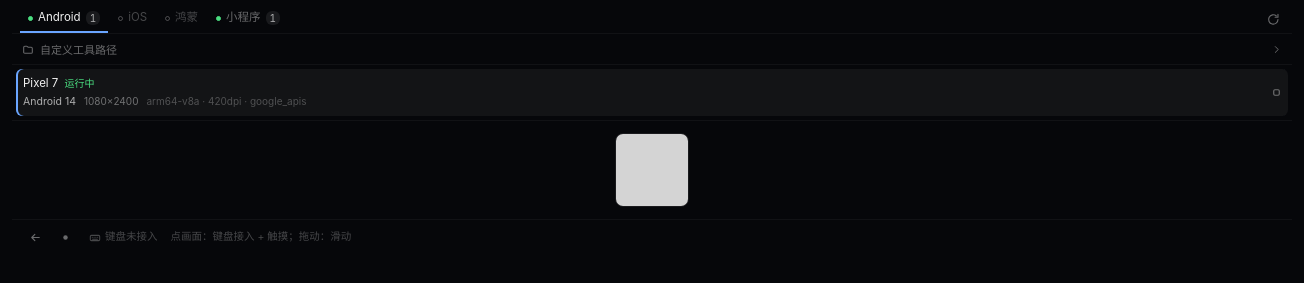
Test: 小程序（元素级输入） › 元素模式：画面是只读的（不接管指针），并列出元素
Click the tab with class "sim-tab" showing "小程序 1" at (248, 20), box [208,6,288,33]
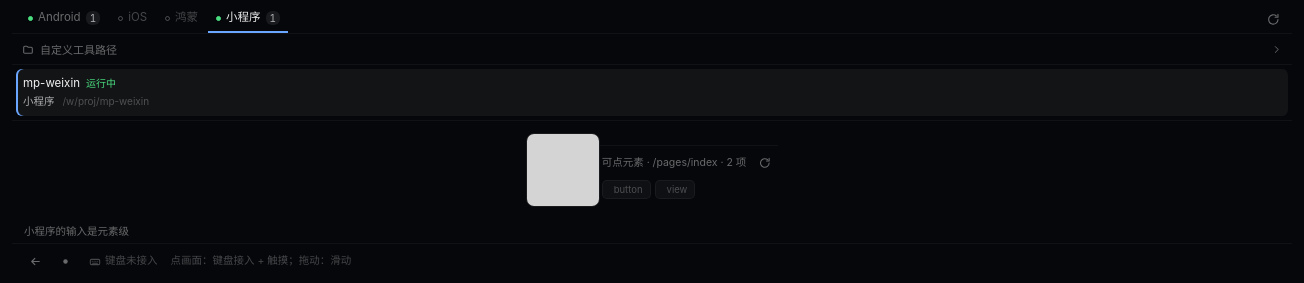
Expected: the number of buttons with class "sim-element" is 2, [602,180,651,199]; [655,180,695,199]
Expected: the button with class "sim-element" reads "button", [602,180,651,199]
